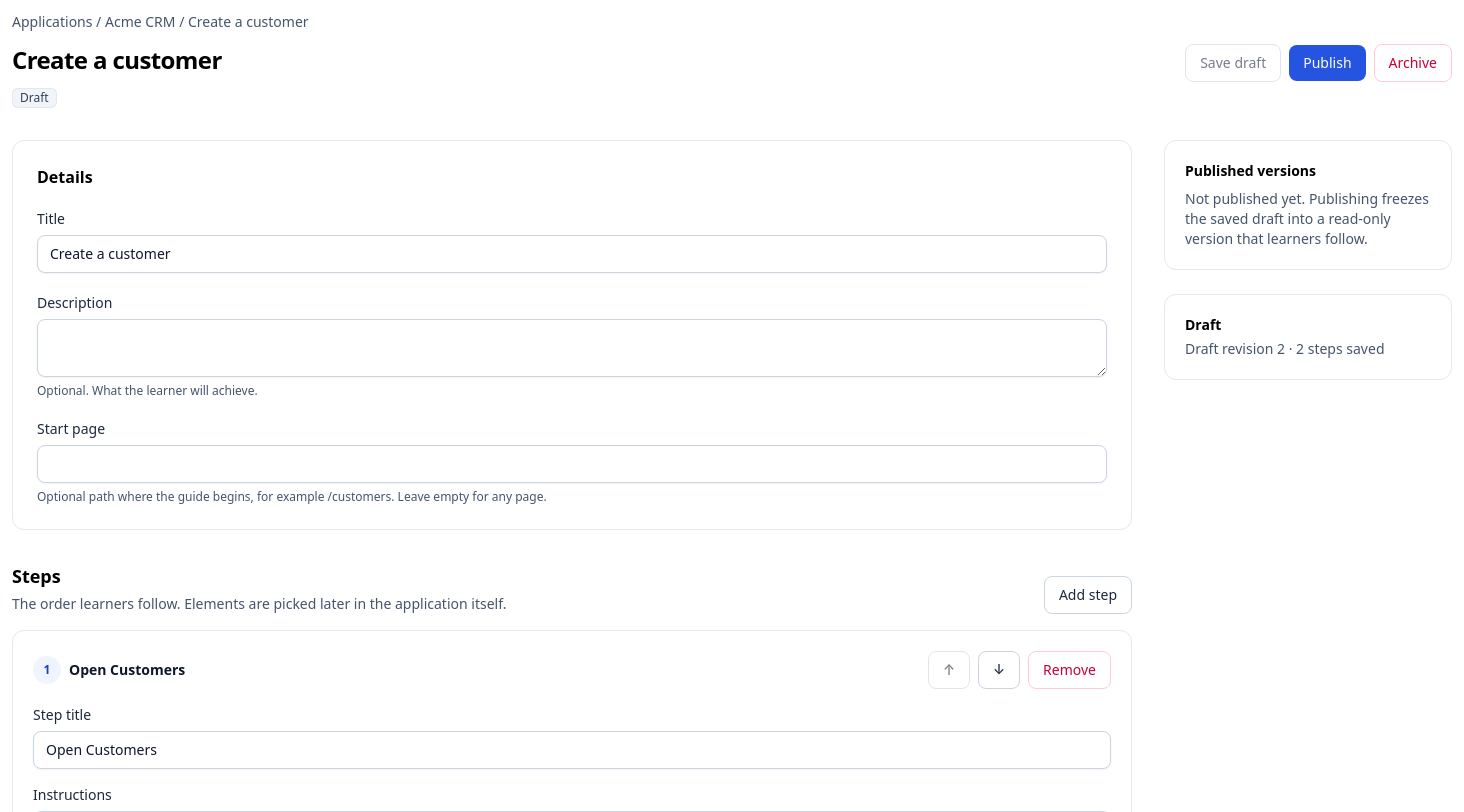
it: GuideEditorPage › says when nothing changed since the latest version
The image size is (1464, 812).
Step 1. Click the button with test id "publish" → (1327, 63), box [1289,45,1366,81]
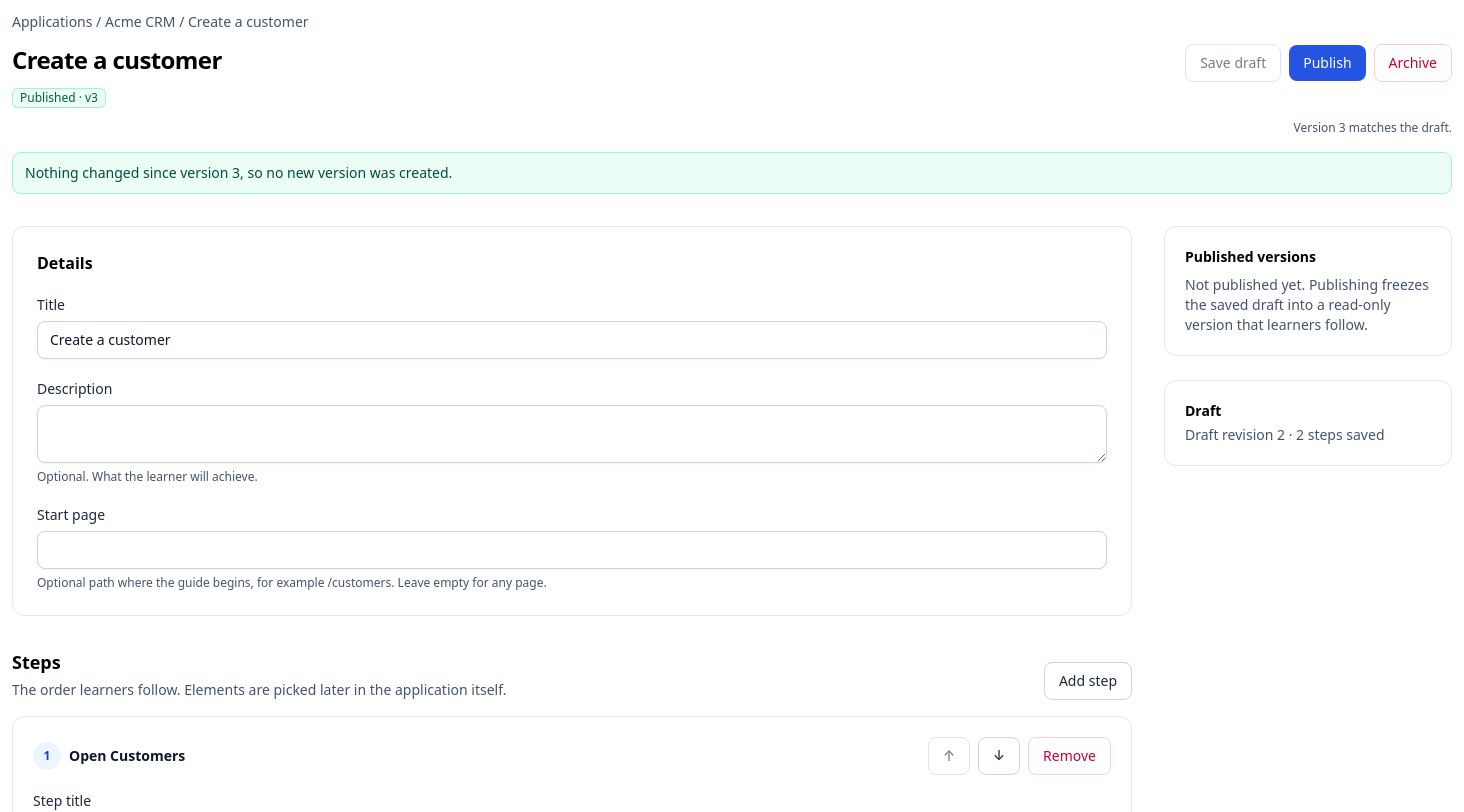
Expected: the text with test id "notice" reads "Nothing changed since version 3, so no new version was created.", [25,163,452,182]
